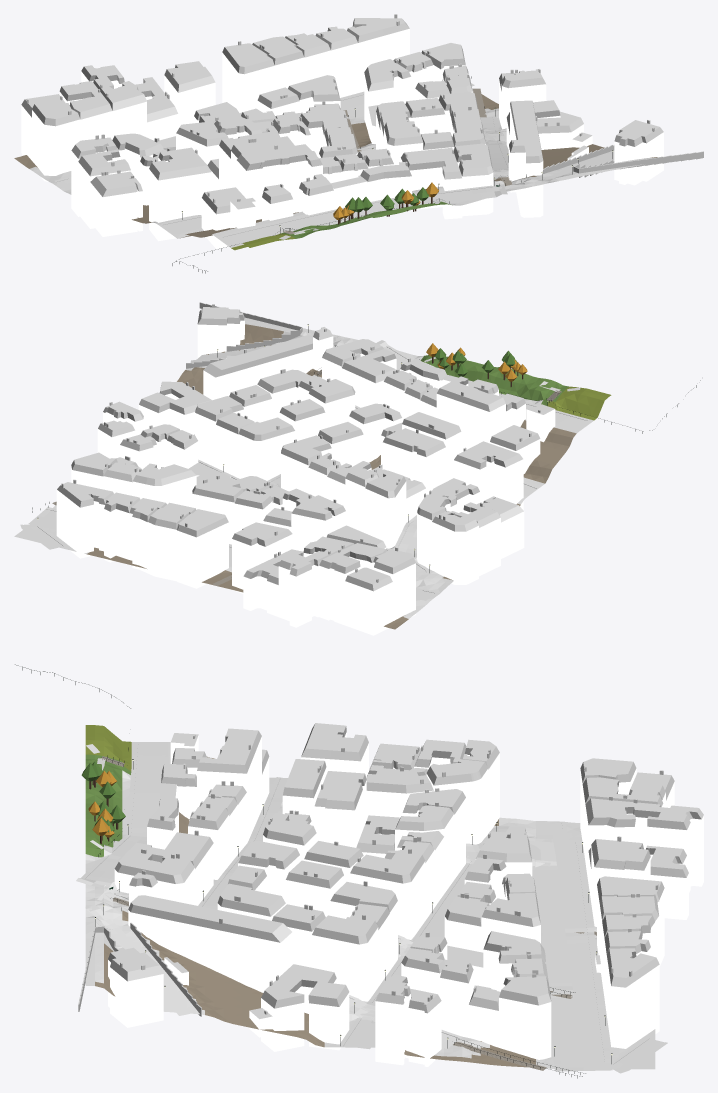
Rendered from zone_E6.glb.
3 views of the same model, one above another, from view 1: azimuth 30°, elevation 25°; view 2: azimuth 150°, elevation 25°; view 3: azimuth 270°, elevation 25° (orthographic). The views are drawn at different scales.
Visible parts, largest first — view 1: zone_E6_batiments, zone_E6_sol_NOCOL, zone_E6_terrain, zone_E6_decor_NOCOL; view 2: zone_E6_batiments, zone_E6_terrain, zone_E6_sol_NOCOL, zone_E6_decor_NOCOL; view 3: zone_E6_batiments, zone_E6_sol_NOCOL, zone_E6_terrain, zone_E6_decor_NOCOL.
Part boxes in pixels (x1,y1,x2,y2): zone_E6_batiments: (21,14,703,248); zone_E6_sol_NOCOL: (54,83,614,245); zone_E6_terrain: (14,88,657,250); zone_E6_decor_NOCOL: (172,76,613,273); zone_E6_batiments: (56,302,555,635); zone_E6_terrain: (14,317,611,629); zone_E6_sol_NOCOL: (20,337,589,600); zone_E6_decor_NOCOL: (32,324,700,572); zone_E6_batiments: (78,723,703,1066); zone_E6_sol_NOCOL: (76,743,667,1073); zone_E6_terrain: (85,725,655,1069); zone_E6_decor_NOCOL: (15,664,612,1078).
Size of the model in its own units: 237 by 50.9 by 225.
